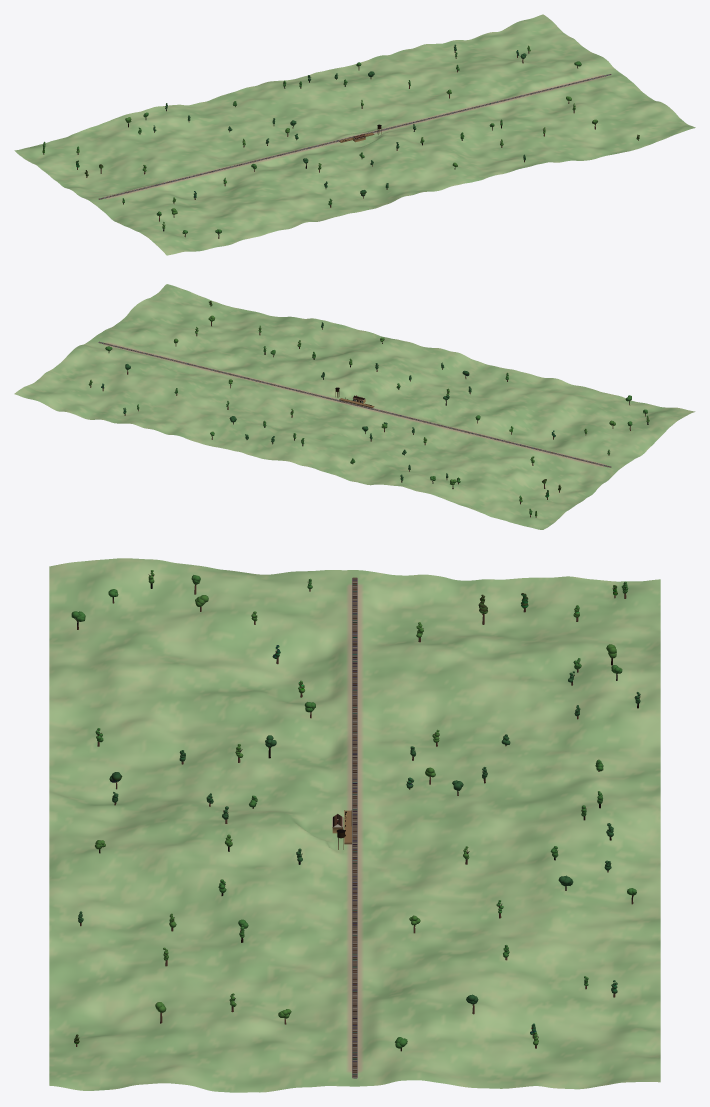
3 renders of one model, top to bottom at view 1: azimuth 30°, elevation 25°; view 2: azimuth 150°, elevation 25°; view 3: azimuth 270°, elevation 25°, orthographic. The views are drawn at different scales.
Visible parts, largest first — view 1: line.terrain.0, line.stone.1, line.plank.2, line.leaf.33, line.leaf.31, line.leaf.32; view 2: line.terrain.0, line.stone.1, line.plank.2, line.leaf.33, line.leaf.31, line.leaf.32; view 3: line.terrain.0, line.plank.2, line.stone.1, line.leaf.33, line.leaf.31, line.leaf.32, line.bark.30.
Part boxes in pixels (bbox=[...]): line.terrain.0: bbox=[14, 14, 695, 255]; line.stone.1: bbox=[98, 74, 611, 199]; line.plank.2: bbox=[99, 74, 610, 199]; line.leaf.33: bbox=[42, 45, 639, 228]; line.leaf.31: bbox=[42, 52, 581, 233]; line.leaf.32: bbox=[153, 44, 526, 198]; line.terrain.0: bbox=[14, 284, 695, 529]; line.stone.1: bbox=[98, 342, 611, 467]; line.plank.2: bbox=[99, 342, 610, 467]; line.leaf.33: bbox=[88, 301, 649, 516]; line.leaf.31: bbox=[105, 346, 647, 514]; line.leaf.32: bbox=[101, 322, 555, 480]; line.terrain.0: bbox=[49, 558, 660, 1092]; line.plank.2: bbox=[352, 577, 357, 1077]; line.stone.1: bbox=[352, 578, 357, 1078]; line.leaf.33: bbox=[74, 570, 617, 1045]; line.leaf.31: bbox=[71, 575, 636, 1048]; line.leaf.32: bbox=[78, 645, 640, 1034]; line.bark.30: bbox=[74, 574, 640, 1051].
Bounding box in the file's own units: 640 × 27.28 × 320.
